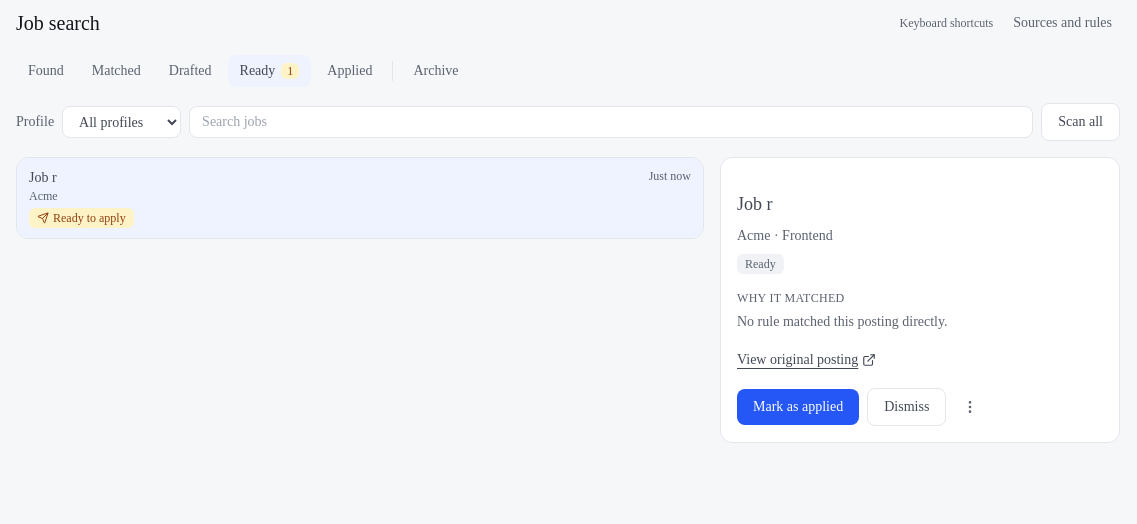
PipelineInbox › shows an inline banner for action errors while items stay
The image size is (1137, 524).
Click the button "Mark as applied" at point(798, 407), box [737,389,859,425]
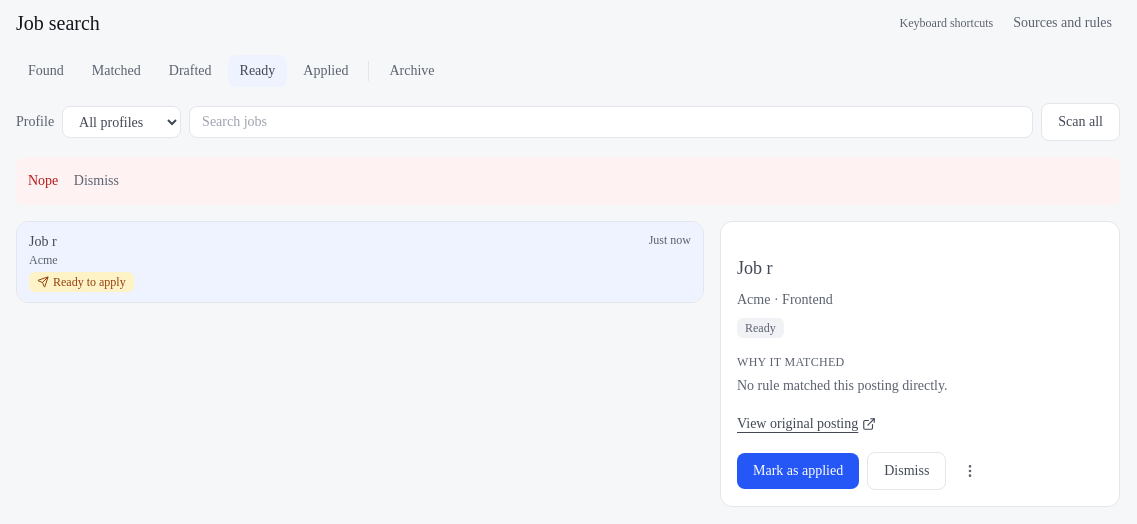
Expected: the button "Job r Acme Ready to apply Just now" is shown, [17,222,703,302]
Result: the message "Nope Dismiss" is shown at [16,157,1120,205]
